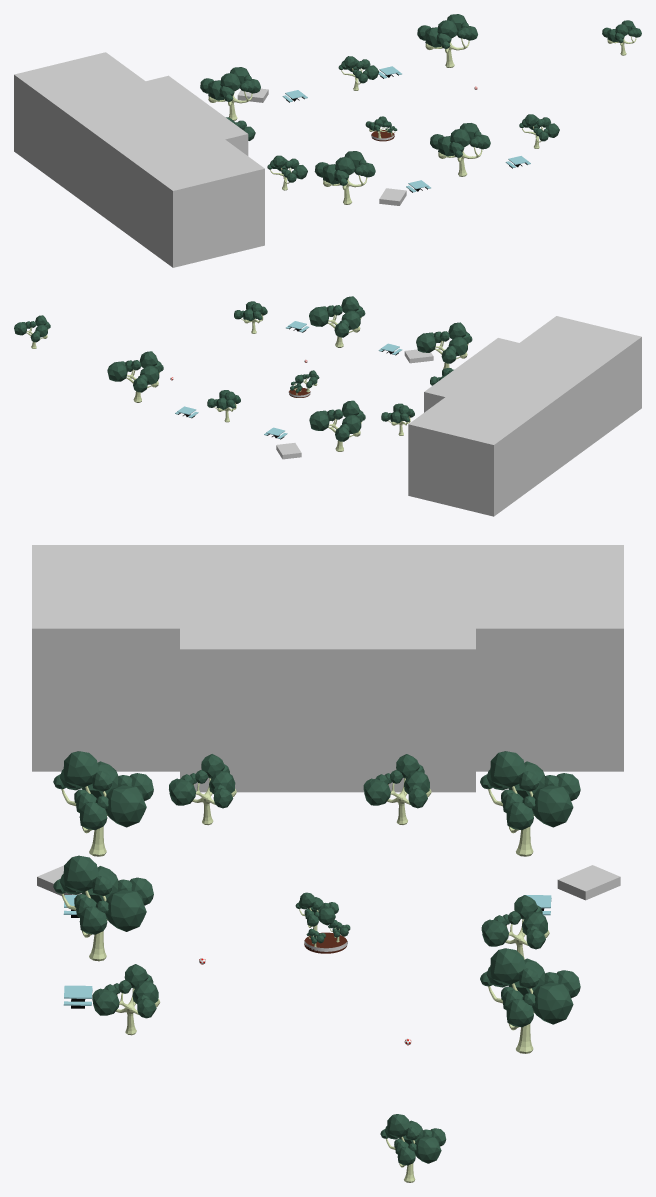
The model's file is Stad.glb.
3 renders of one model, top to bottom at view 1: azimuth 30°, elevation 25°; view 2: azimuth 150°, elevation 25°; view 3: azimuth 270°, elevation 25°, orthographic. The views are drawn at different scales.
Visible parts, largest first — view 1: Plain.005, Leaves.001, Leaves.003, Leaves.004, Leaves.007, Leaves.002, Leaves.006, Leaves.005, Leaves, Plain.003; view 2: Plain.005, Leaves.003, Leaves.004, Leaves.001, Leaves.007, Leaves, Leaves.008, Leaves.005, Leaves.002, Plain.004; view 3: Plain.005, Leaves.001, Leaves.003, Leaves.004, Leaves.007, Leaves, Leaves.006, Leaves.008, Leaves.005, Leaves.002, Plain.004, Leaves.010.
Part boxes in pixels (box(x1,y1,x2,y2)): Plain.005: box(14, 52, 264, 267); Leaves.001: box(417, 14, 477, 48); Leaves.003: box(200, 67, 260, 101); Leaves.004: box(314, 151, 375, 185); Leaves.007: box(430, 123, 490, 157); Leaves.002: box(519, 114, 559, 141); Leaves.006: box(267, 155, 307, 182); Leaves.005: box(338, 56, 378, 83); Leaves: box(602, 20, 641, 42); Plain.003: box(379, 188, 406, 205); Plain.005: box(408, 316, 641, 516); Leaves.003: box(309, 400, 365, 441); Leaves.004: box(416, 322, 472, 363); Leaves.001: box(107, 351, 163, 392); Leaves.007: box(309, 296, 365, 337); Leaves: box(14, 315, 50, 342); Leaves.008: box(381, 403, 414, 423); Leaves.005: box(207, 390, 240, 409); Leaves.002: box(234, 301, 267, 321); Plain.004: box(276, 443, 301, 459); Plain.005: box(32, 545, 623, 792); Leaves.001: box(480, 948, 580, 1027); Leaves.003: box(480, 751, 580, 829); Leaves.004: box(53, 751, 153, 830); Leaves.007: box(53, 855, 153, 934); Leaves: box(380, 1114, 446, 1165); Leaves.006: box(169, 754, 235, 808); Leaves.008: box(363, 754, 429, 808); Leaves.005: box(481, 895, 547, 949); Leaves.002: box(92, 964, 158, 1018); Plain.004: box(557, 865, 620, 900); Leaves.010: box(295, 892, 338, 926).
Size of the model in its own units: 124 by 16 by 59.99.
